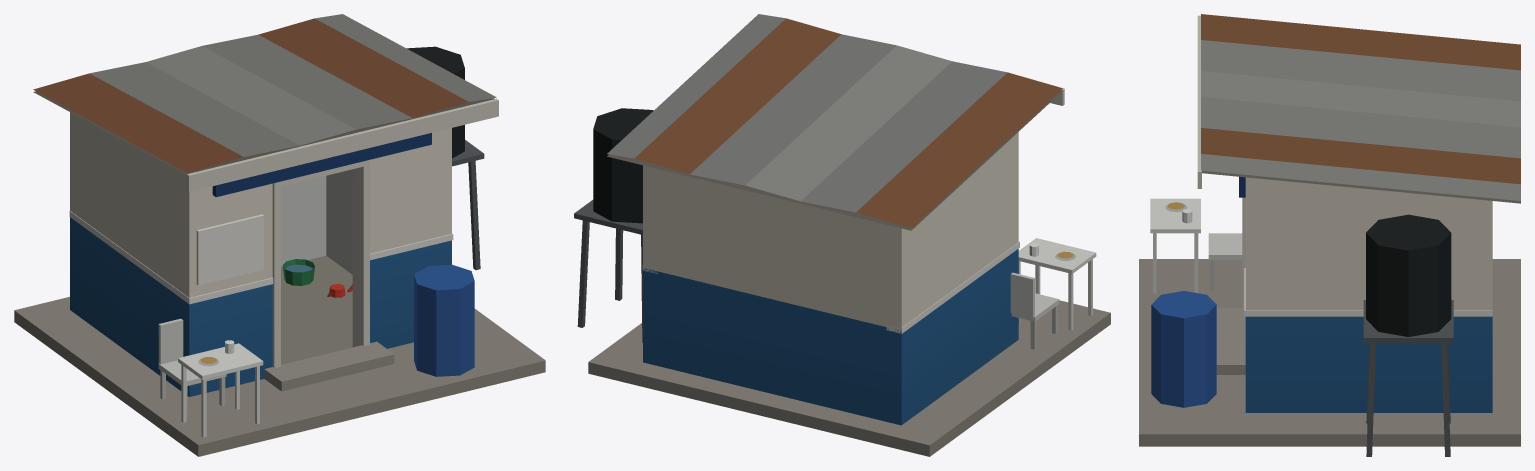
File: ns_toilet_lod1.glb
The picture shows the model from 3 angles, left to right: view 1: azimuth 30°, elevation 25°; view 2: azimuth 150°, elevation 25°; view 3: azimuth 270°, elevation 25°; orthographic projection. The views are drawn at different scales.
Parts seen in each view (by area): view 1: ns_toilet_lod1; view 2: ns_toilet_lod1; view 3: ns_toilet_lod1.
Boxes of the visible parts, box(x1,y1,x2,y2) form: ns_toilet_lod1: box(14, 14, 545, 456); ns_toilet_lod1: box(574, 14, 1110, 456); ns_toilet_lod1: box(1139, 14, 1520, 456).
Size of the model in its own units: 4.2 by 2.64 by 3.4.
